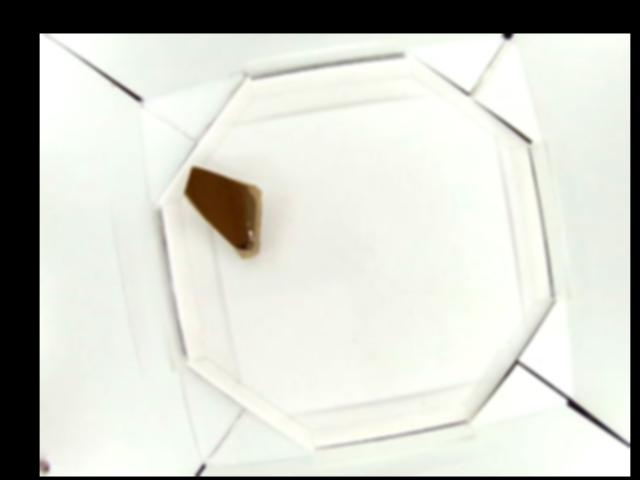China: (180, 164, 268, 261)
